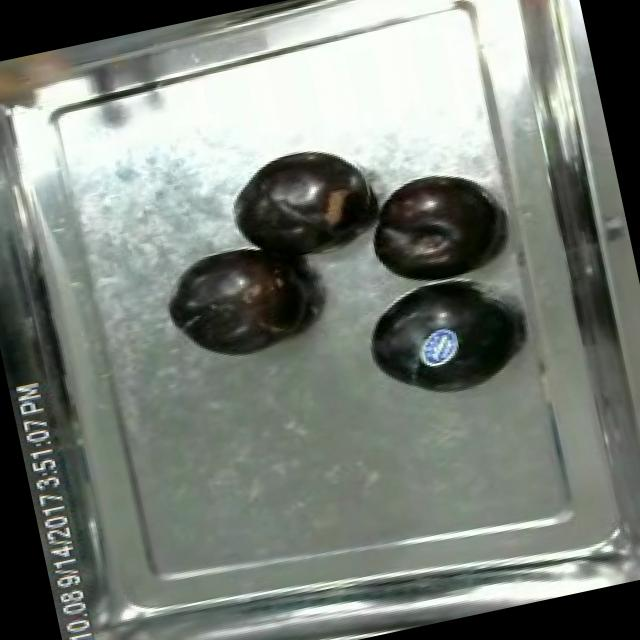Fruit: (348, 265, 526, 417), (154, 235, 318, 374), (356, 160, 510, 295), (218, 136, 376, 254), (0, 43, 93, 130)
